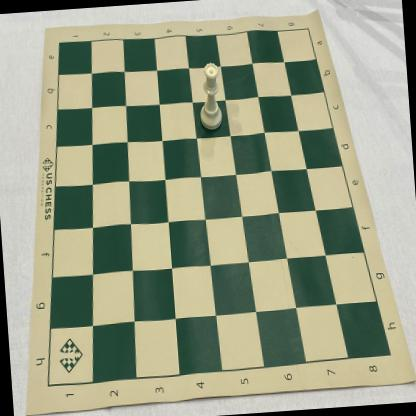queen: (197, 63, 224, 132)
